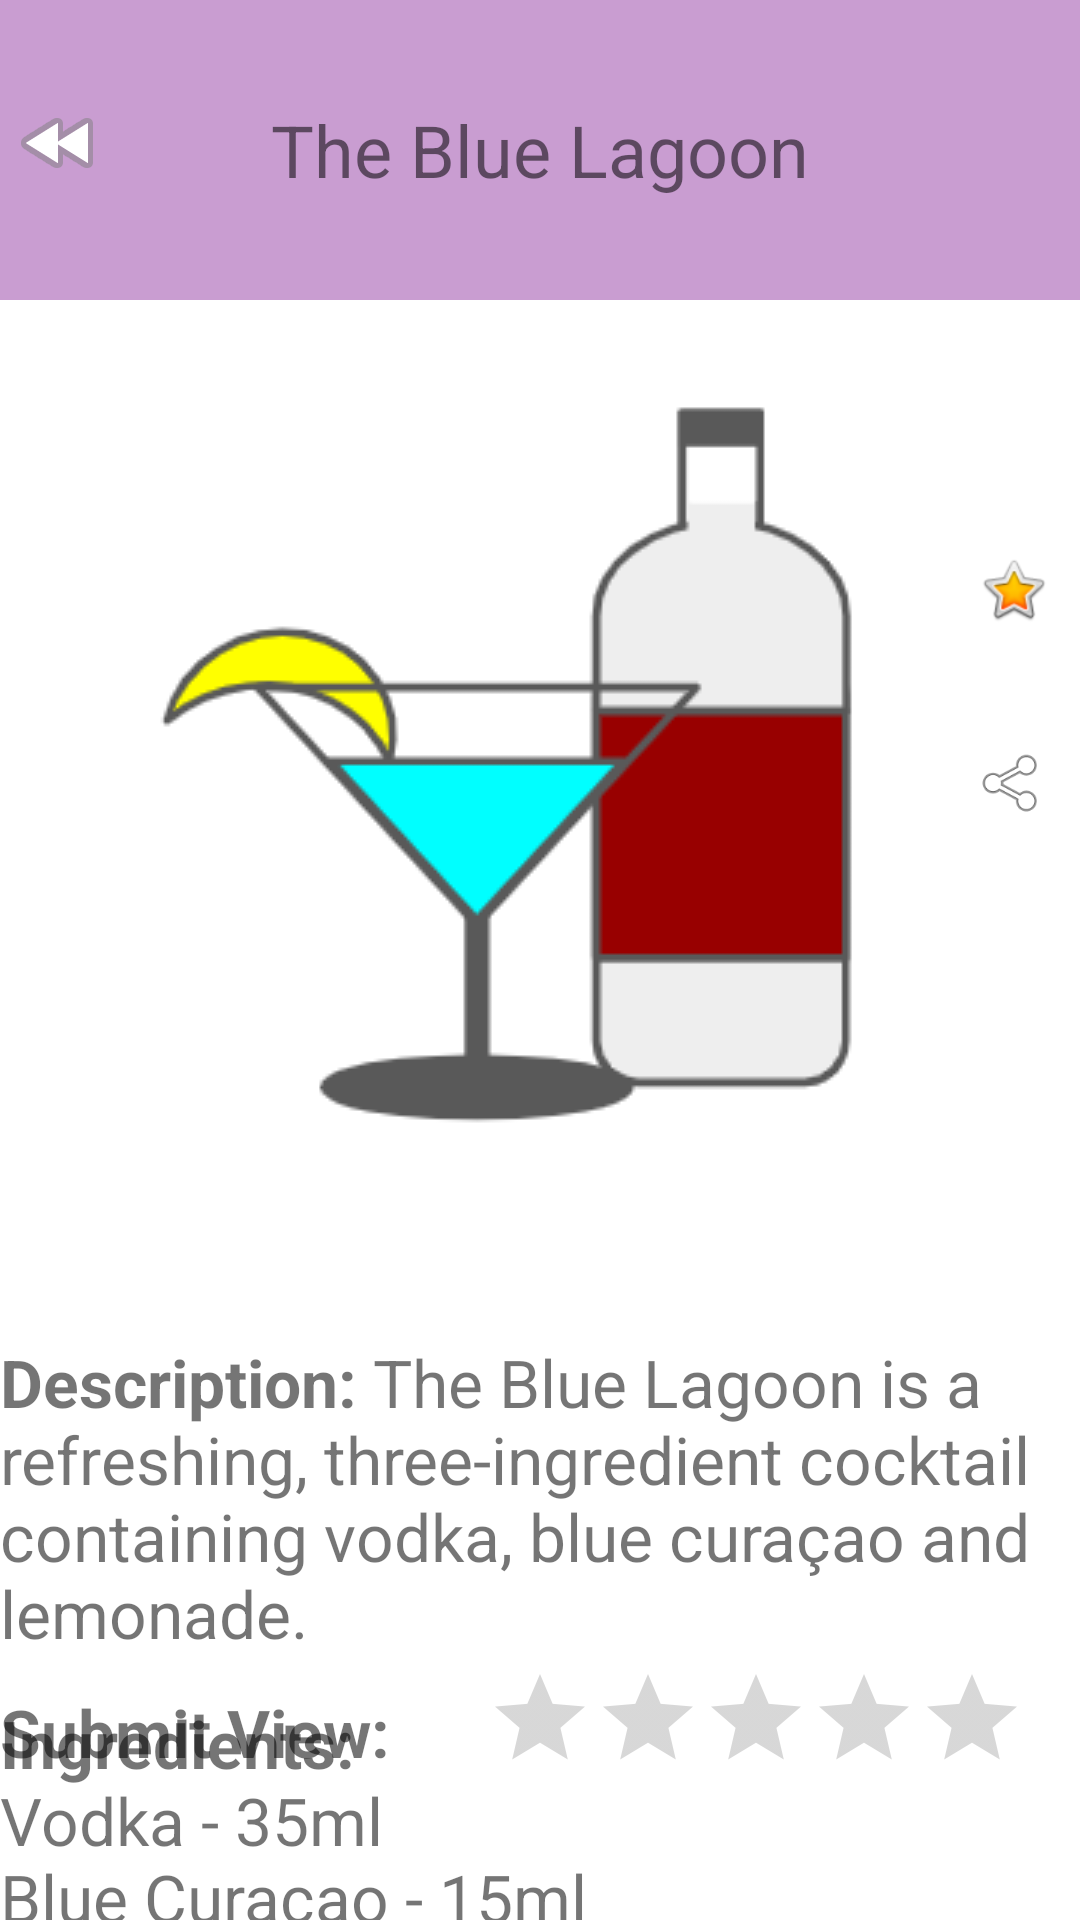

Where to tap for icons on this 1080w x 1920h app screen, as (x,y):
Backwards Arrow: (57,143)
share: (1009,783)
star on: (1014,590)
